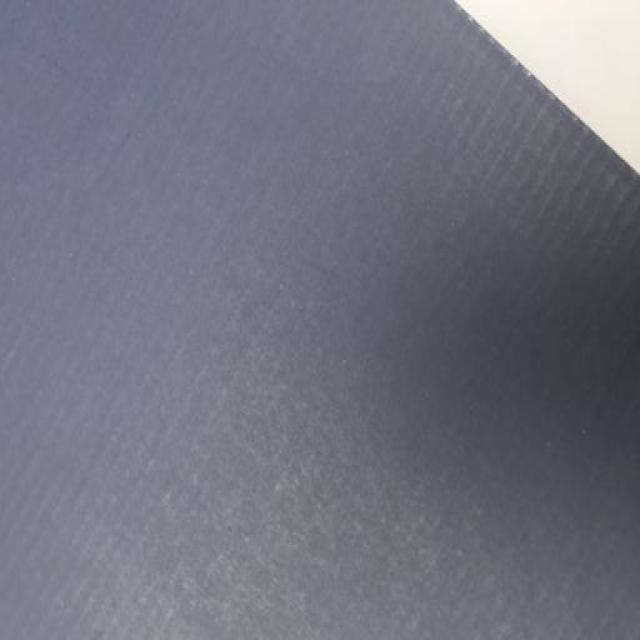Cardboard Paper: (1, 0, 640, 640)
